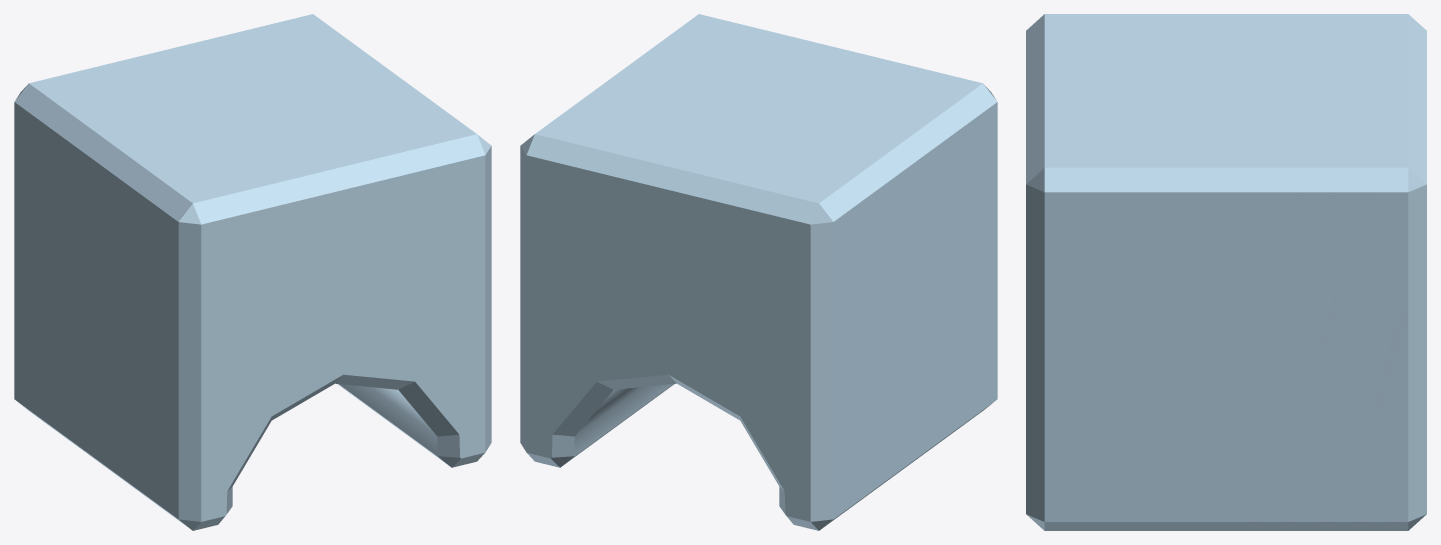
The model's file is R4B_Arch_LOD1.fbx.
The picture shows the model from 3 angles, left to right: view 1: azimuth 30°, elevation 25°; view 2: azimuth 150°, elevation 25°; view 3: azimuth 270°, elevation 25°; orthographic projection. The views are drawn at different scales.
Visible parts, largest first — view 1: R4B_Arch_LOD1; view 2: R4B_Arch_LOD1; view 3: R4B_Arch_LOD1.
Part boxes in pixels (x1=…): R4B_Arch_LOD1: x1=14, y1=14, x2=491, y2=530; R4B_Arch_LOD1: x1=520, y1=14, x2=997, y2=530; R4B_Arch_LOD1: x1=1026, y1=14, x2=1426, y2=530.
Bounding box in the file's own units: 0.52 × 0.52 × 0.52.
